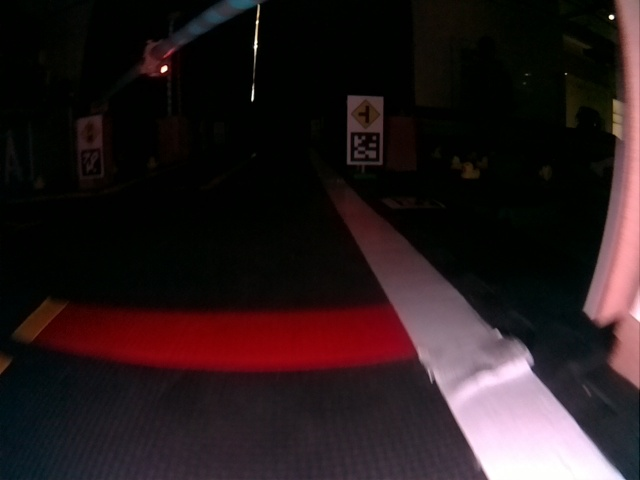Duckie: (462, 162, 478, 177)
Intersection sign: (350, 97, 381, 129)
QR code: (350, 131, 382, 163), (78, 148, 103, 176)
Signal sign: (78, 120, 100, 146)
Traffic light: (143, 41, 171, 76)
